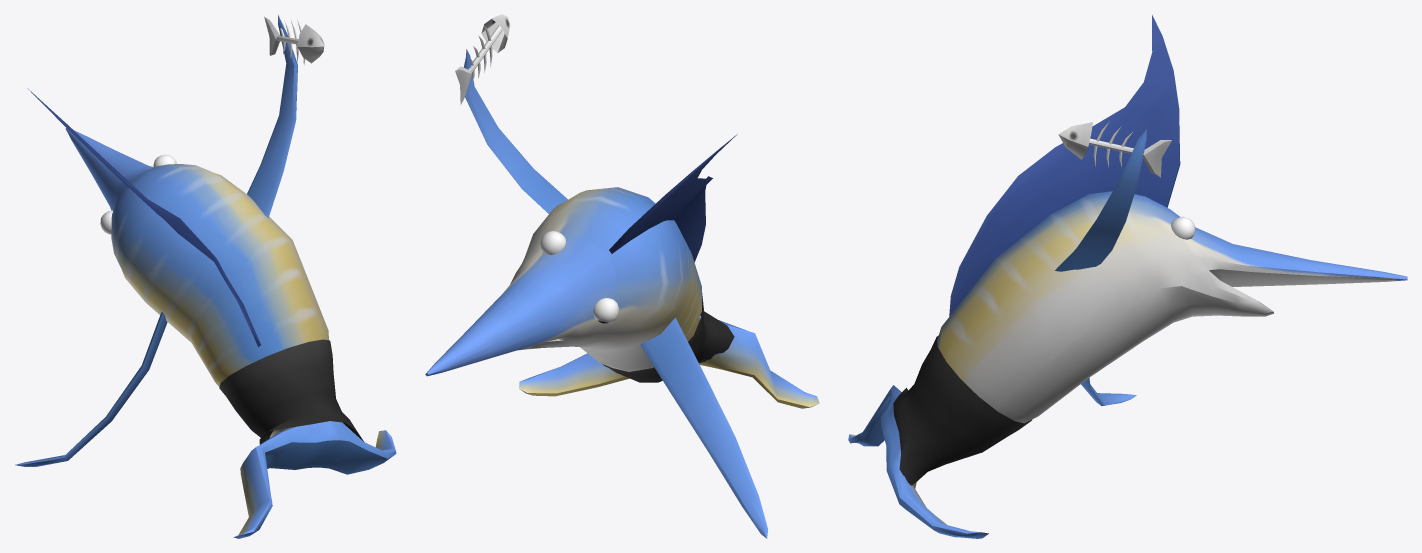
File: kajiki_fix_08.fbx
The picture shows the model from 3 angles, left to right: view 1: azimuth 30°, elevation 25°; view 2: azimuth 150°, elevation 25°; view 3: azimuth 270°, elevation 25°; orthographic projection. The views are drawn at different scales.
Parts seen in each view (by area): view 1: F_08; view 2: F_08; view 3: F_08.
Part boxes in pixels (x1,y1,x2,y2): F_08: [15, 15, 396, 538]; F_08: [425, 14, 819, 538]; F_08: [848, 15, 1407, 538].
Bounding box in the file's own units: 1.69 × 2.11 × 2.59.
2 materials, 2 textured.
